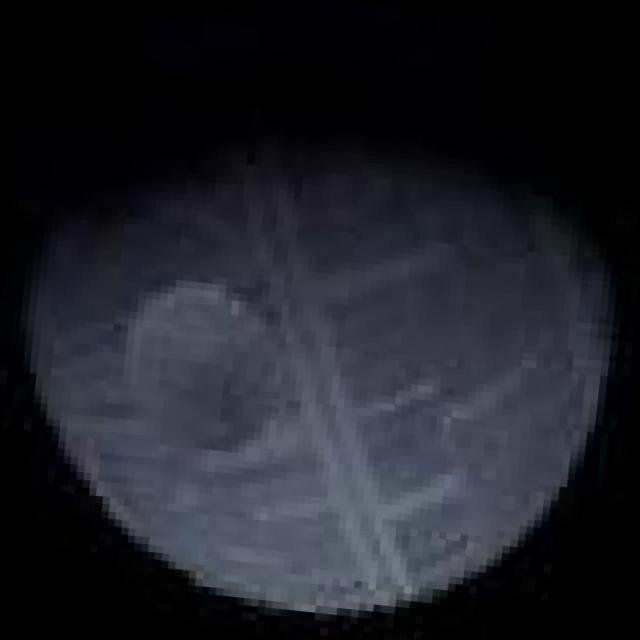Death Star: (0, 92, 637, 640)
